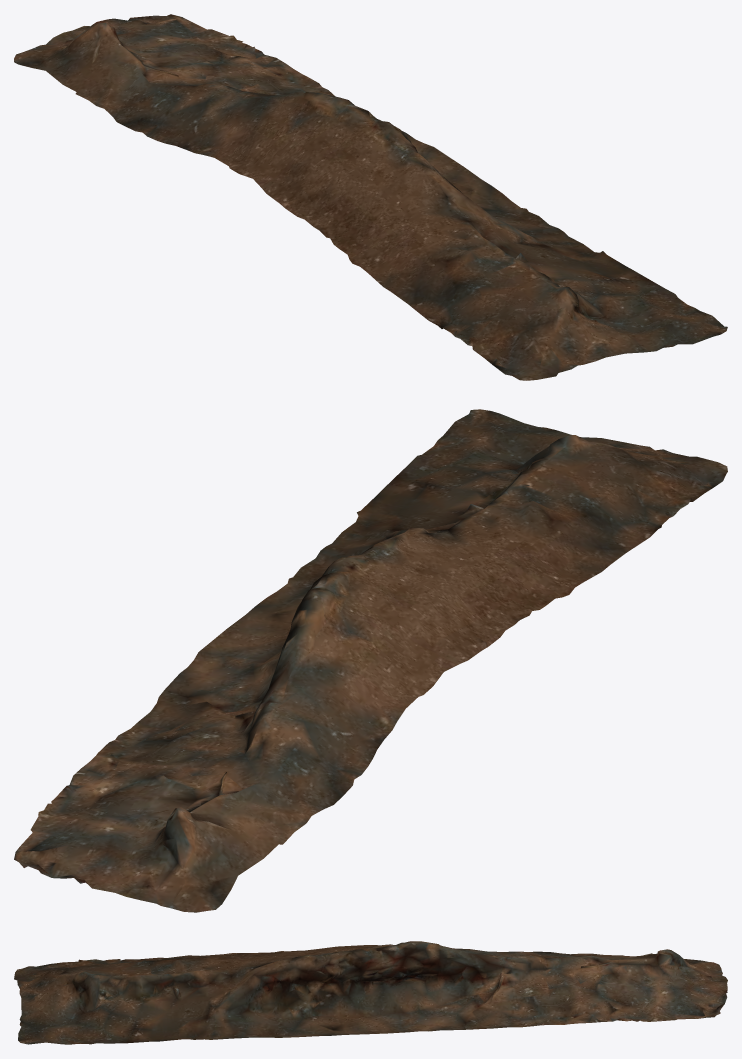
File: single_root.glb
3 renders of one model, top to bottom at view 1: azimuth 30°, elevation 25°; view 2: azimuth 150°, elevation 25°; view 3: azimuth 270°, elevation 25°, orthographic. The views are drawn at different scales.
Visible parts, largest first — view 1: single_root; view 2: single_root; view 3: single_root.
Part boxes in pixels (x1=…): single_root: x1=14, y1=14, x2=727, y2=380; single_root: x1=14, y1=409, x2=727, y2=912; single_root: x1=14, y1=941, x2=727, y2=1044.
Size of the model in its own units: 0.5552 by 0.1761 by 1.84.
Materials: 1 (1 with a texture image).
